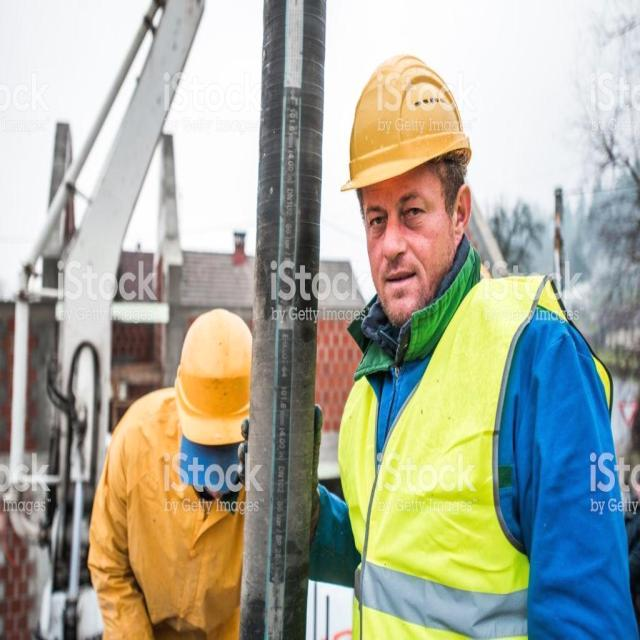face_nomask: (358, 175, 453, 314)
head_helmet: (340, 52, 473, 193), (174, 310, 260, 449)
person: (343, 53, 635, 638), (97, 312, 264, 637)
vest: (346, 279, 555, 640)
